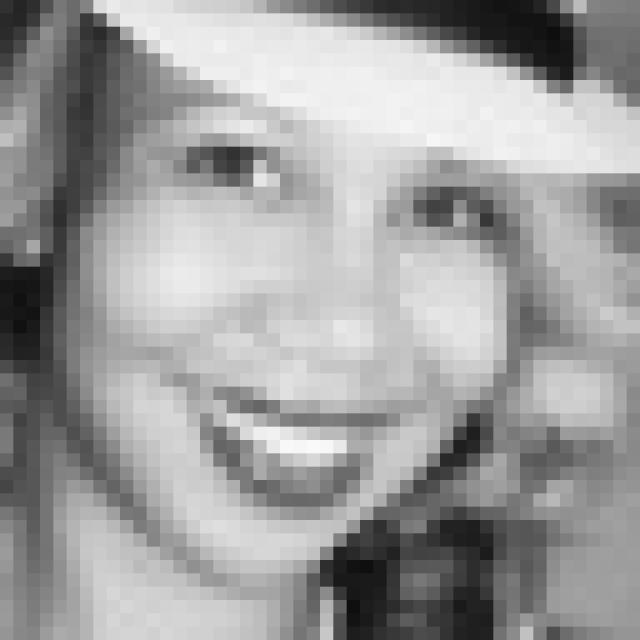happy: (134, 90, 503, 514)
